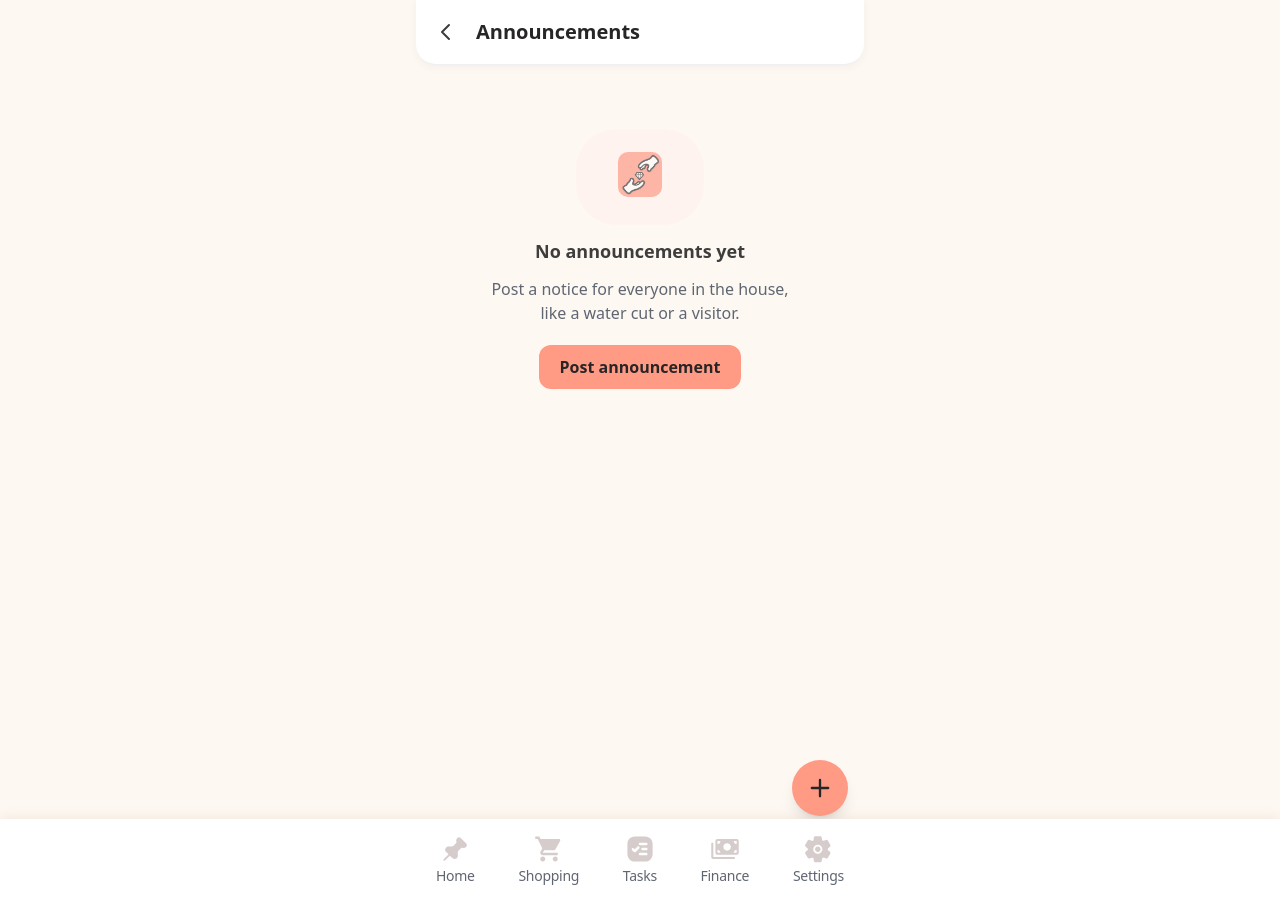
posting › a failed post keeps the sheet and everything typed
Click the button named "Post announcement".
click(820, 788)  # box [792,760,848,816]
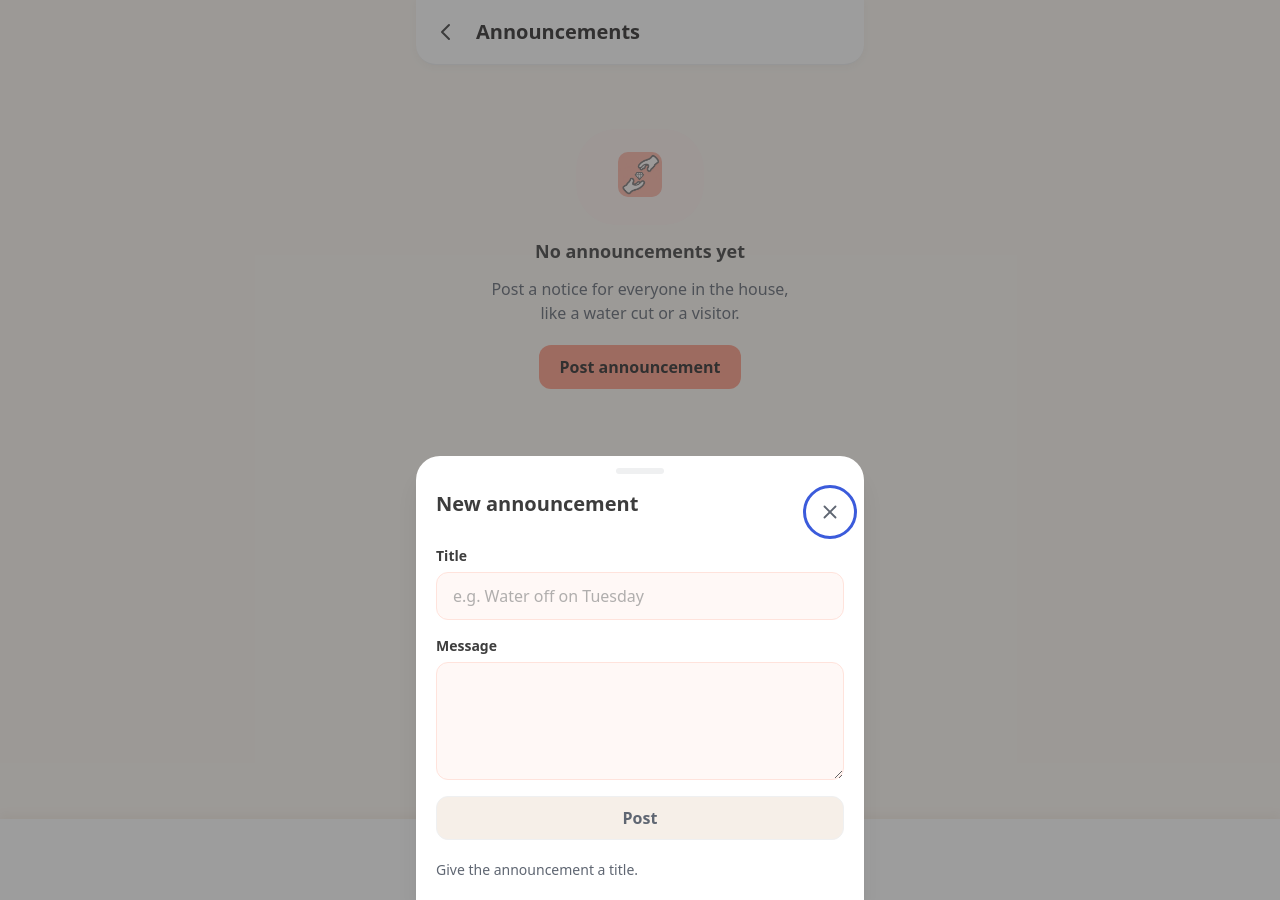
Type "Keep me" into the field labelled "Title".
click(640, 596); type("Keep me")  # box [436,572,844,620]
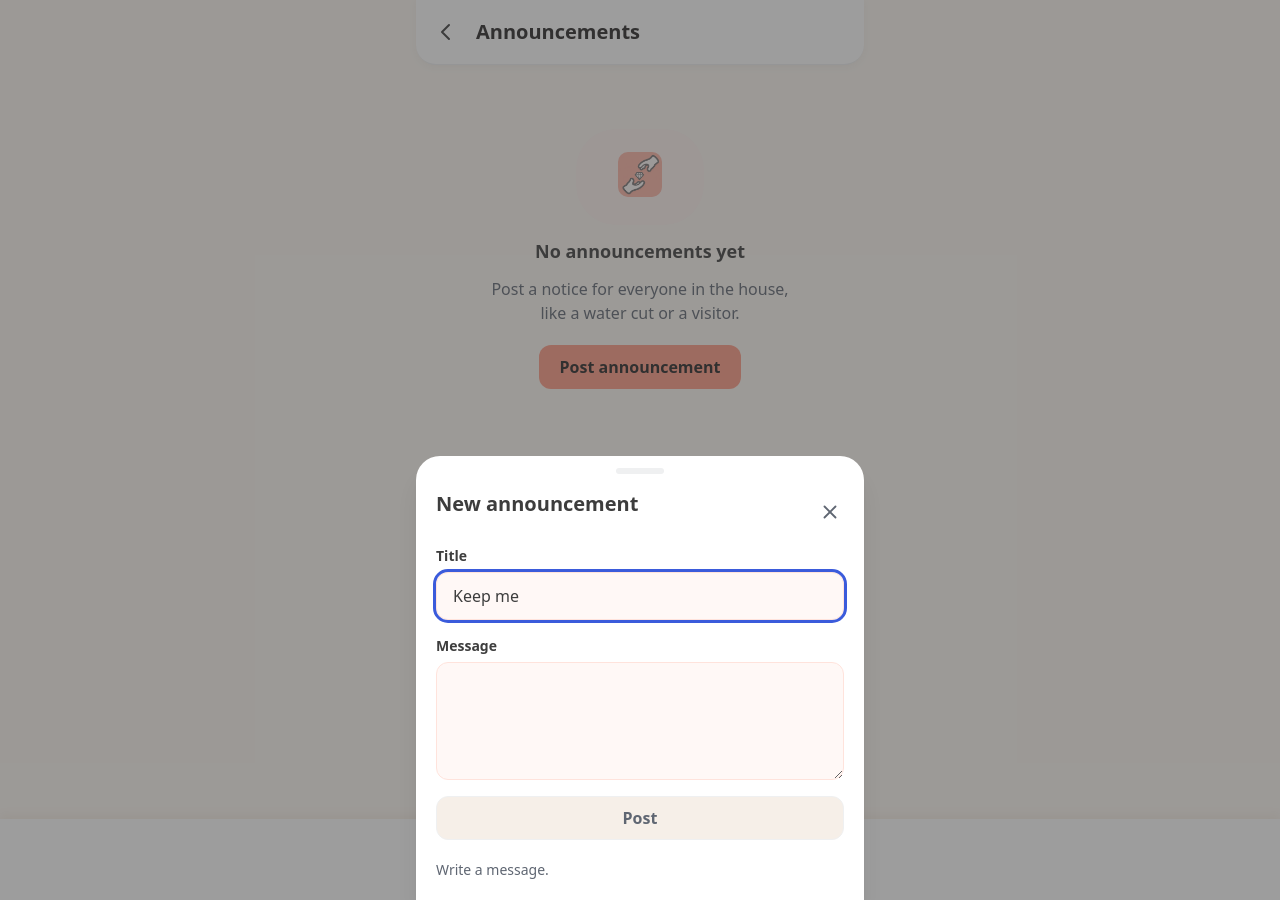
Type "Body stays" into the text box labelled "Message".
click(640, 721); type("Body stays")  # box [436,662,844,780]
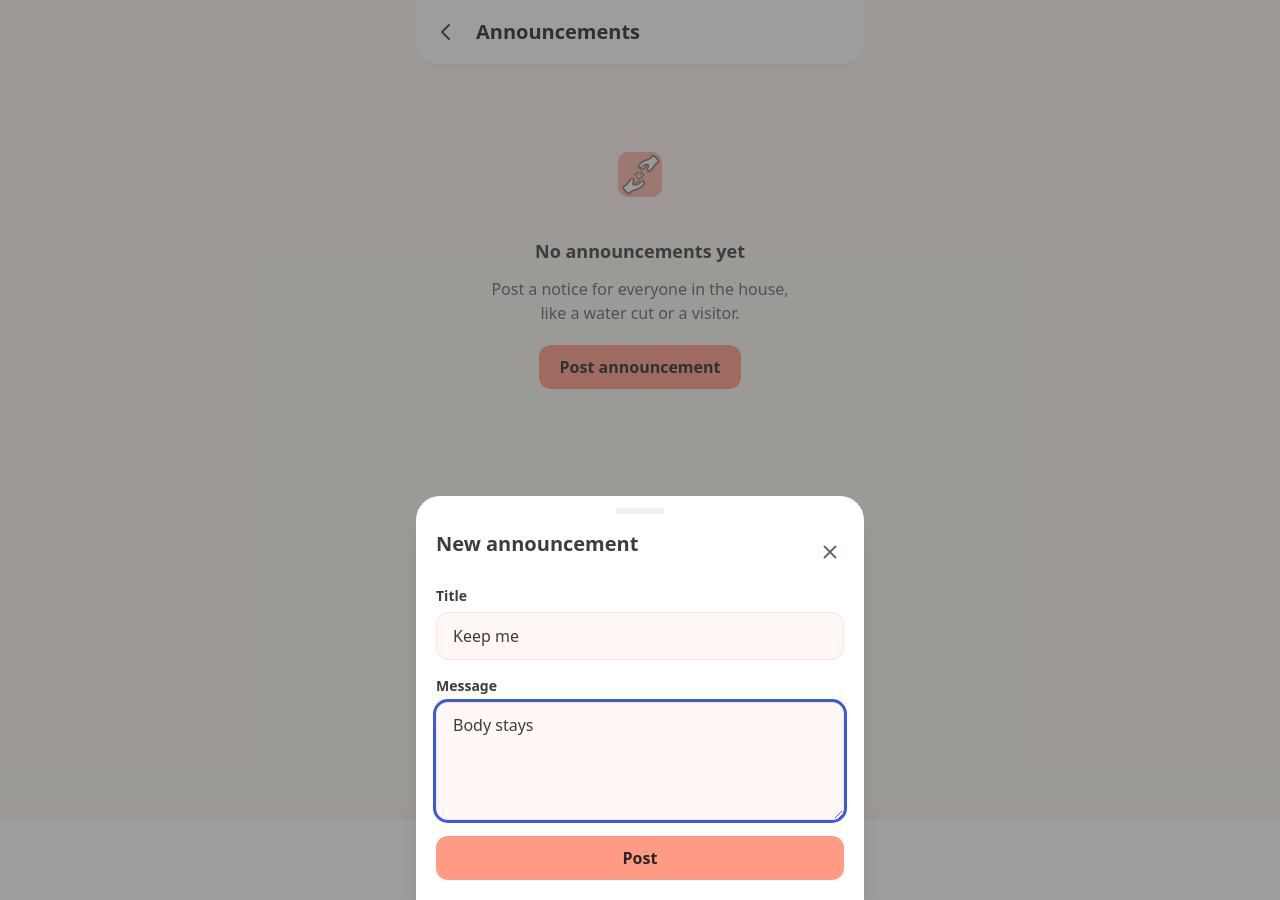
Click the button "Post".
click(640, 858)  # box [436,836,844,880]
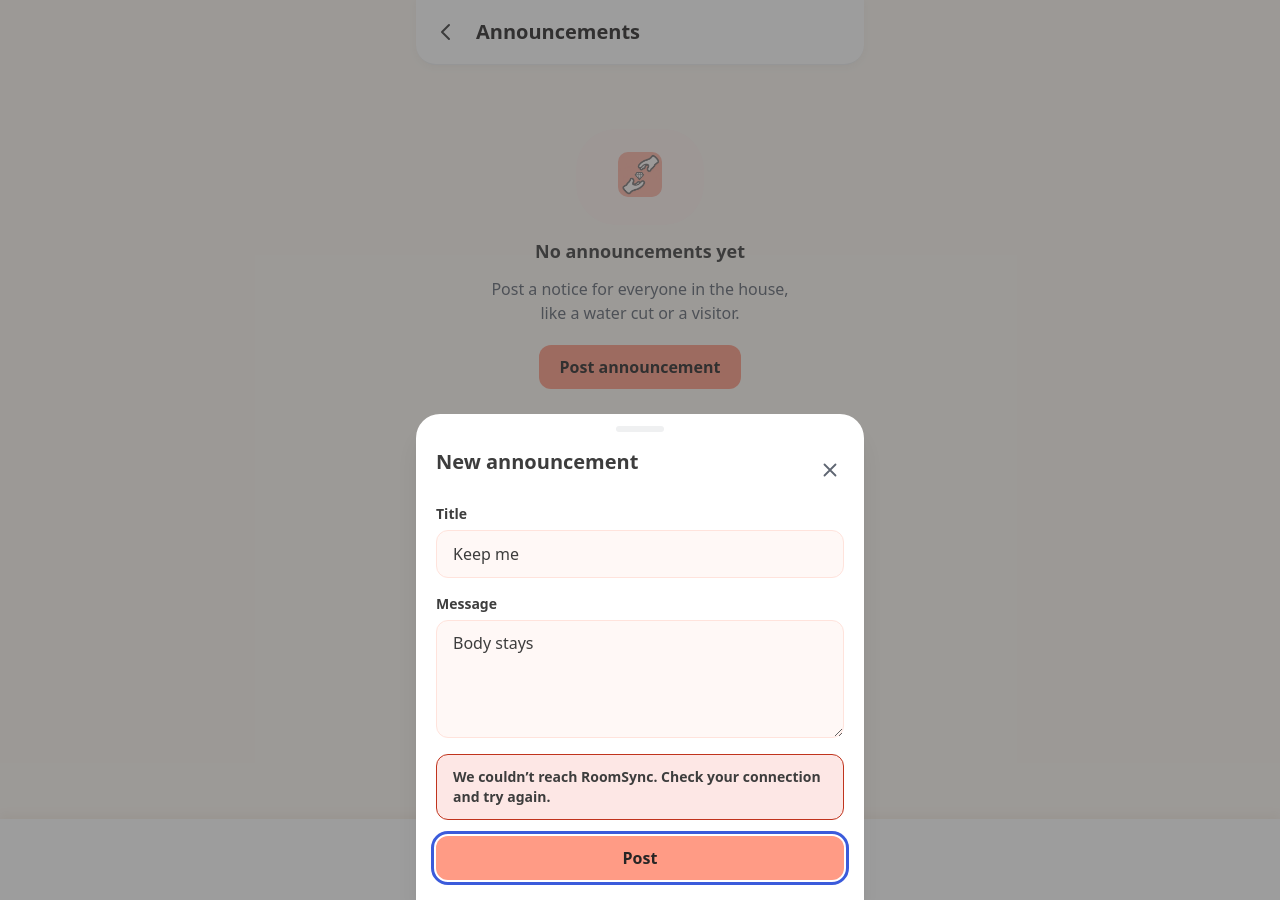
Check: the text "We couldn’t reach RoomSync. Check your connection and try again." is shown, box [436,754,844,820]
